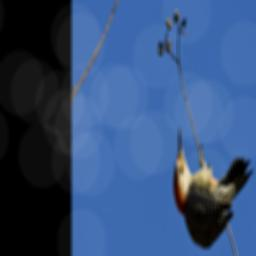Woodpecker: (167, 121, 256, 252)
